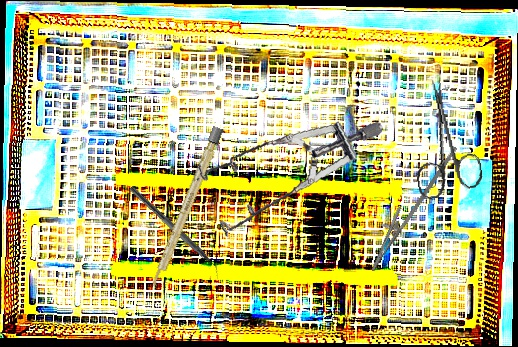Chopper: (123, 185, 227, 281)
Iris Scissors: (402, 74, 485, 201)
Needle Holder: (359, 132, 459, 281)
Scalpel Handle: (148, 125, 224, 292)
Speculum: (188, 94, 385, 260)
